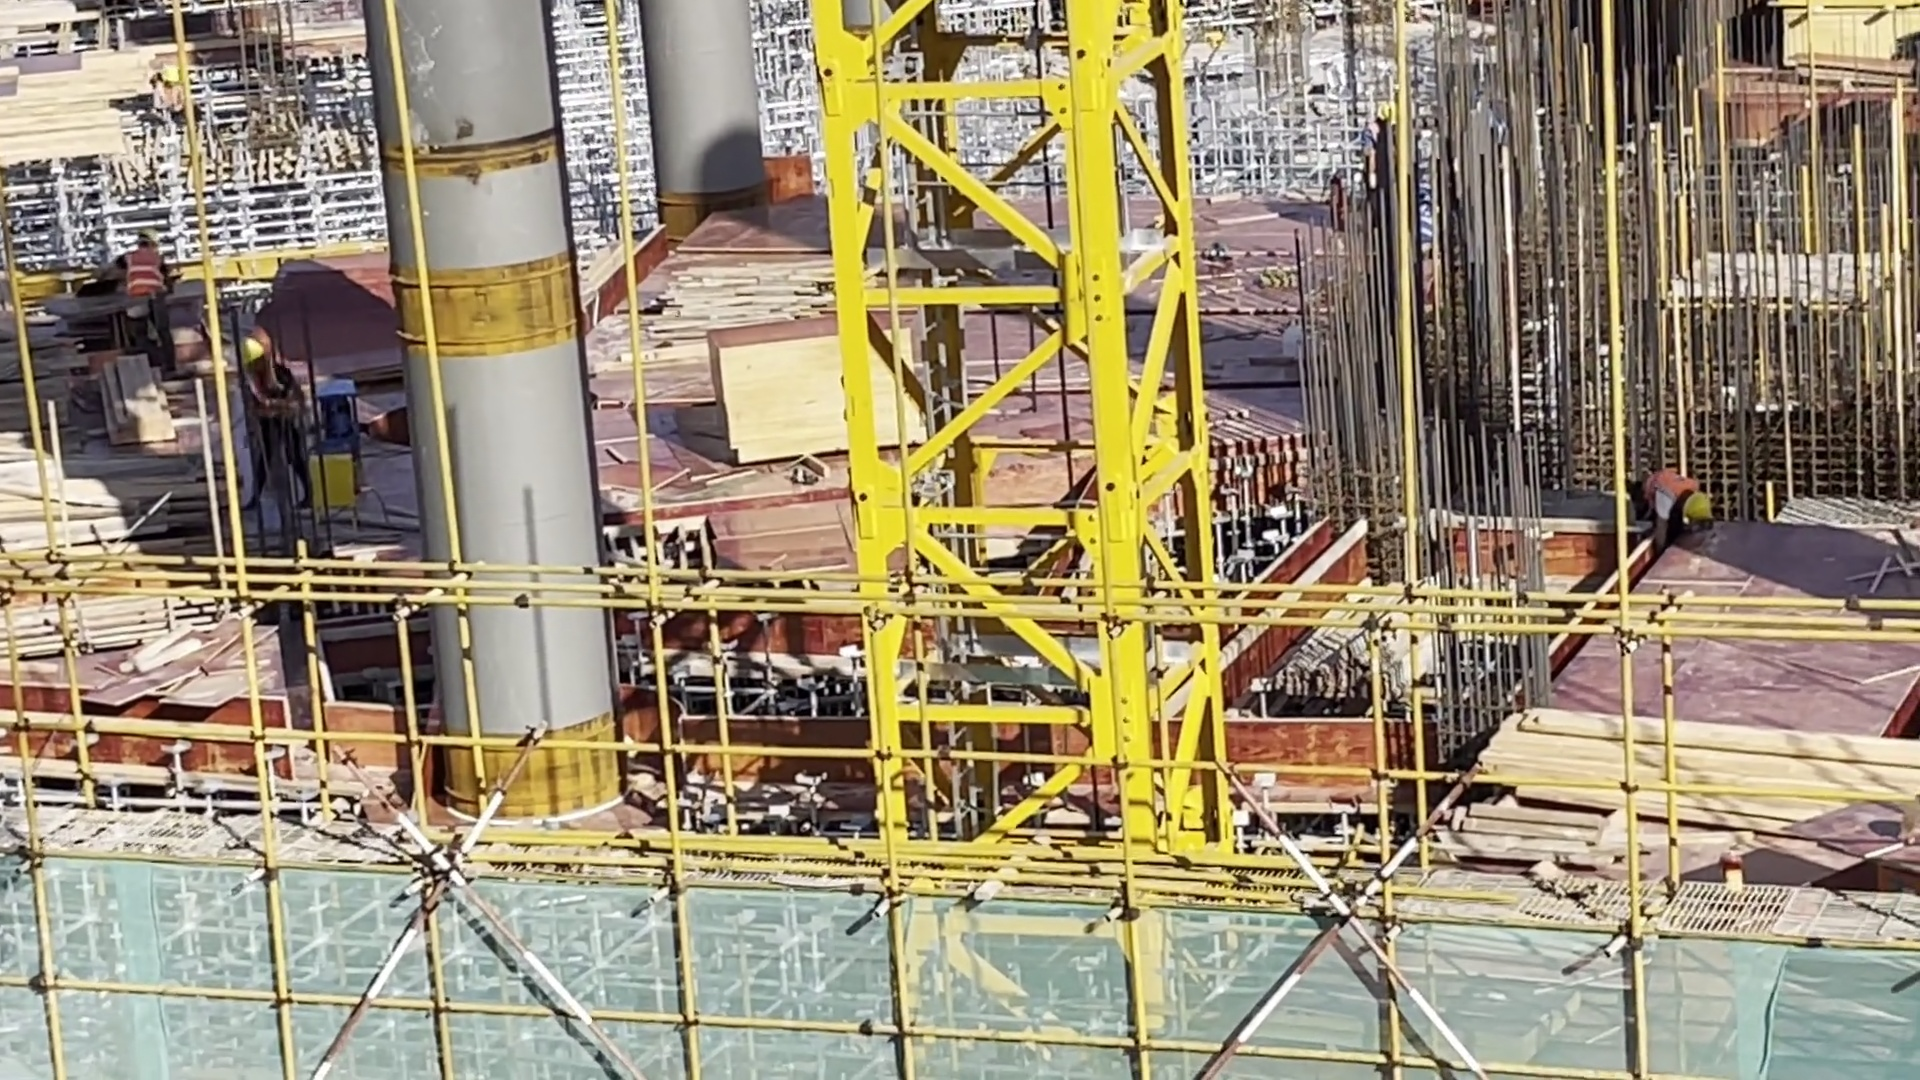board: (704, 323, 943, 470), (1779, 1, 1920, 89)
helmet: (233, 333, 270, 372), (135, 222, 170, 258), (1684, 488, 1715, 529)
person: (240, 330, 326, 526), (93, 226, 194, 381), (1637, 465, 1722, 555)
vest: (244, 365, 302, 424), (1648, 468, 1697, 523), (121, 243, 165, 303)
wood: (1477, 710, 1920, 831), (1, 430, 236, 573), (95, 356, 180, 445)
